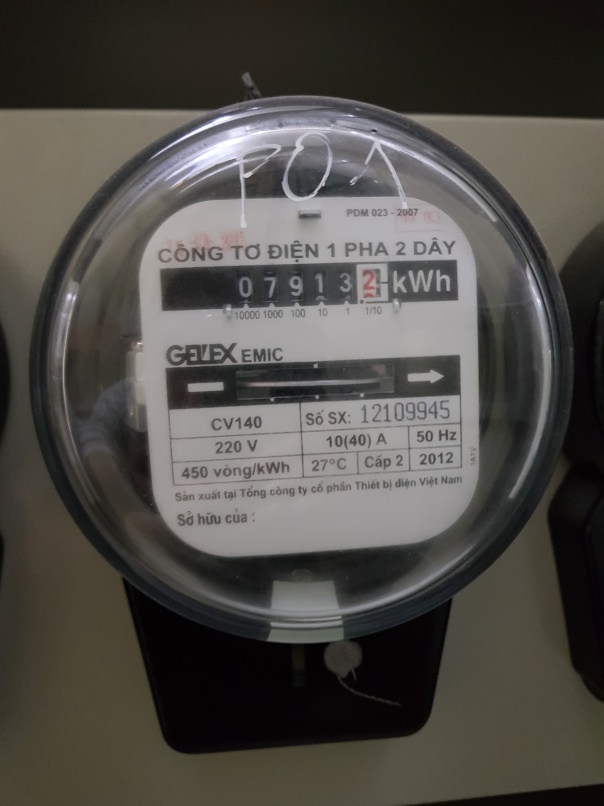counter: (161, 259, 462, 311)
electricity_meter: (31, 93, 574, 638)
